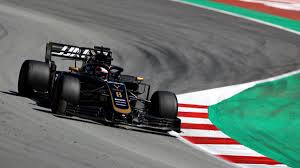f1_car: (10, 35, 187, 145)
